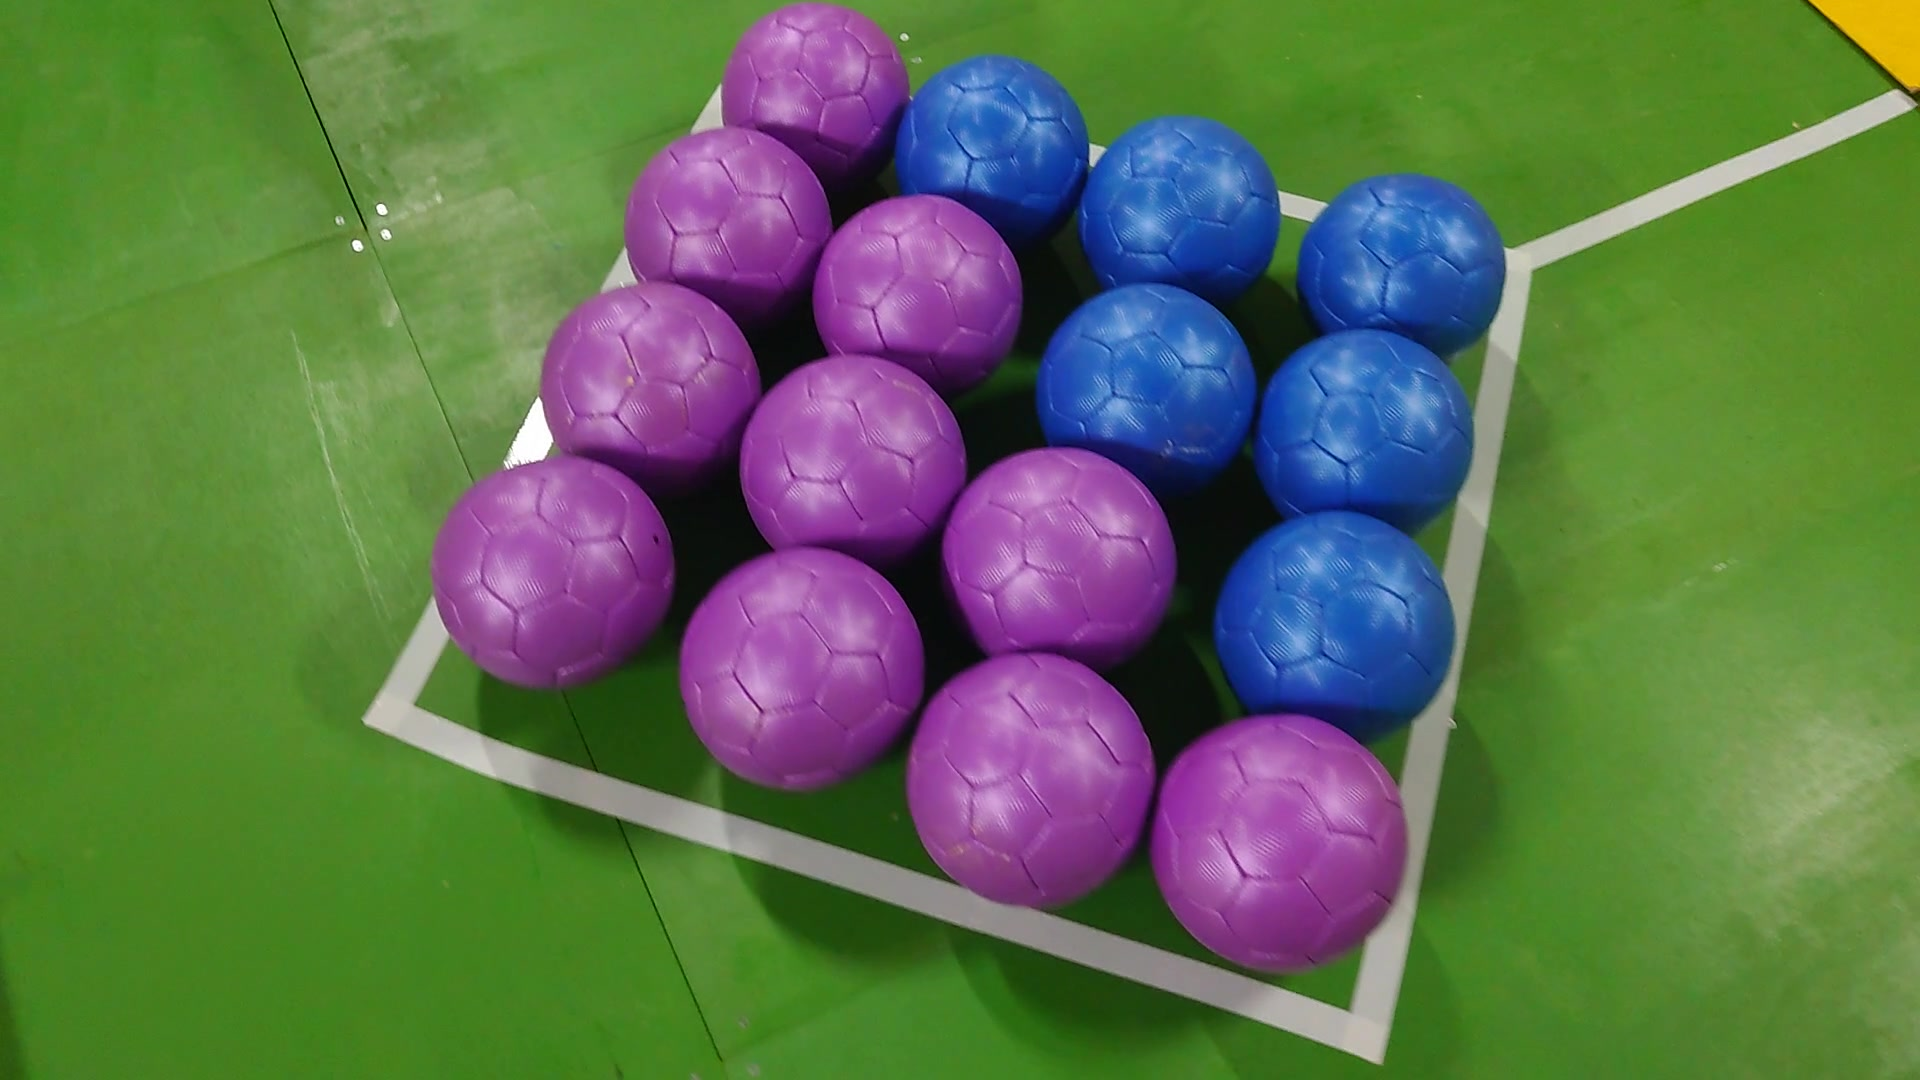blue: (1212, 513, 1456, 735), (1247, 327, 1476, 529), (1029, 281, 1257, 483), (1294, 166, 1509, 352), (1075, 115, 1283, 301), (889, 49, 1095, 225)
purple: (1146, 715, 1414, 980), (901, 650, 1159, 905), (673, 549, 927, 790), (431, 454, 673, 692), (944, 447, 1182, 657), (738, 352, 967, 555), (542, 281, 752, 473), (620, 124, 836, 303), (814, 196, 1026, 378), (719, 0, 907, 160)
